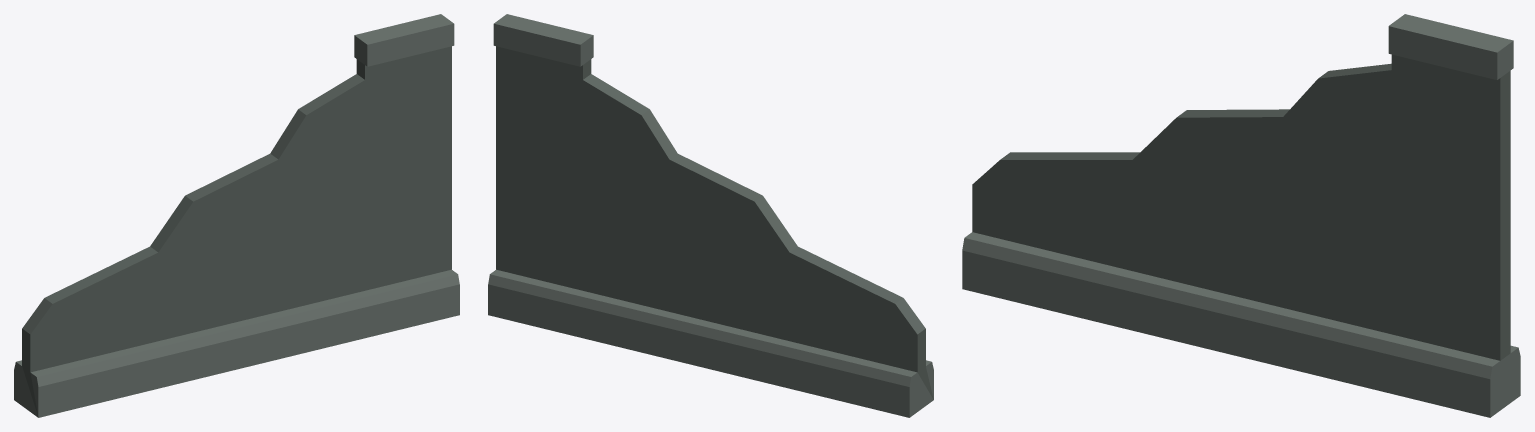
The model's file is stoneWallDamaged.fbx.
3 renders of one model, left to right at view 1: azimuth 30°, elevation 25°; view 2: azimuth 150°, elevation 25°; view 3: azimuth 330°, elevation 25°, orthographic. The views are drawn at different scales.
Visible parts, largest first — view 1: stoneWallDamaged; view 2: stoneWallDamaged; view 3: stoneWallDamaged.
Part boxes in pixels (x1=…): stoneWallDamaged: x1=14, y1=14, x2=459, y2=417; stoneWallDamaged: x1=488, y1=14, x2=933, y2=417; stoneWallDamaged: x1=962, y1=14, x2=1520, y2=417.
Bounding box in the file's own units: 4.5 × 2.93 × 0.45.
